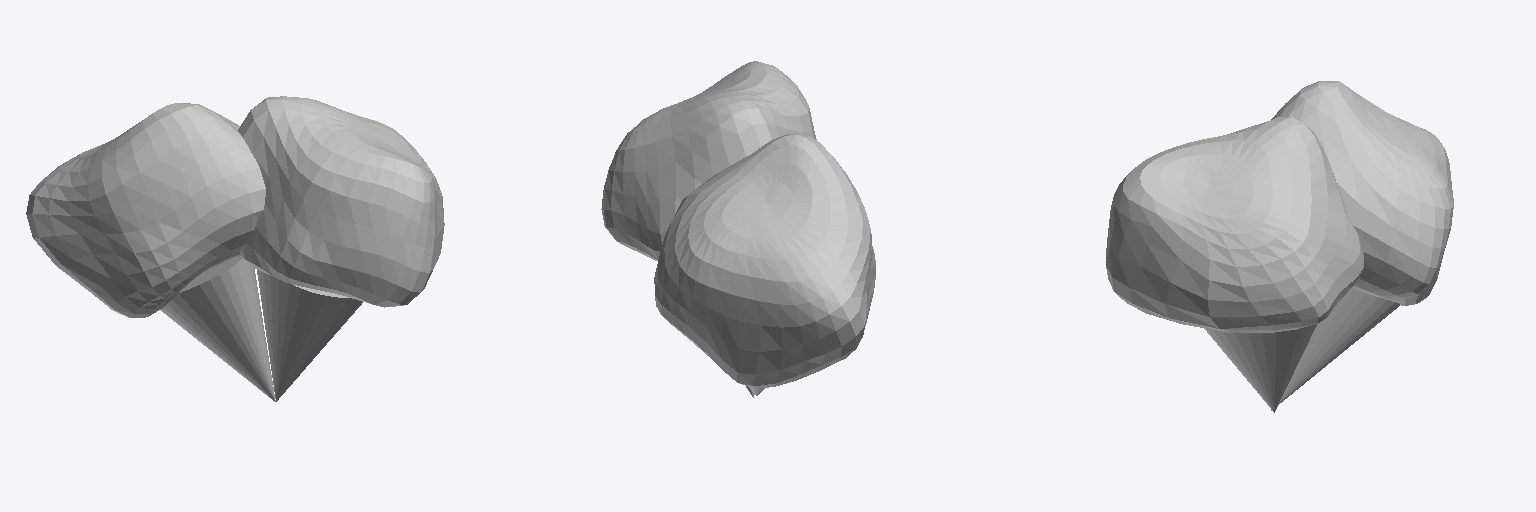
The model's file is CottonCandy_Topping.obj.
3 renders of one model, left to right at view 1: azimuth 30°, elevation 25°; view 2: azimuth 150°, elevation 25°; view 3: azimuth 270°, elevation 25°, orthographic.
Visible parts, largest first — view 1: CottonCandy; view 2: CottonCandy; view 3: CottonCandy.
Part boxes in pixels (bbox=[...]): CottonCandy: bbox=[26, 96, 444, 401]; CottonCandy: bbox=[601, 61, 875, 397]; CottonCandy: bbox=[1106, 81, 1453, 412].
Bounding box in the file's own units: 4.53 × 4.08 × 4.34.